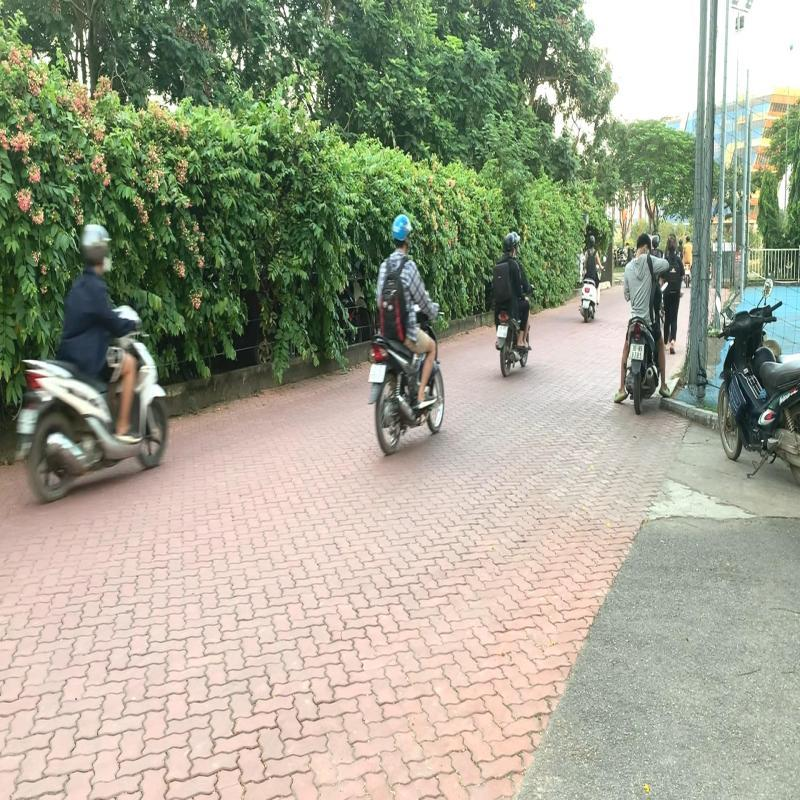licenseplate: (630, 344, 644, 362)
motorcyclist: (612, 232, 672, 409)
nohelmet: (636, 234, 652, 257)
